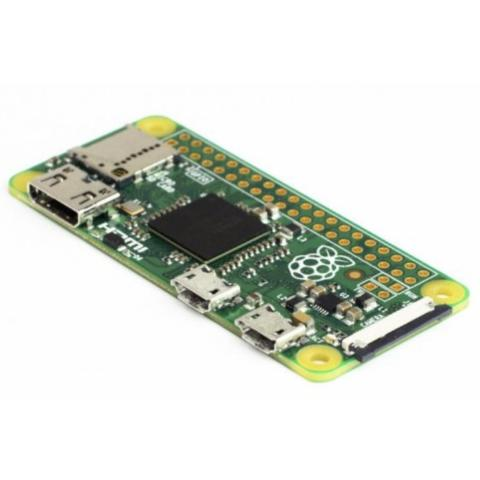Raspberry-Pi-Zero: (8, 112, 470, 381)
